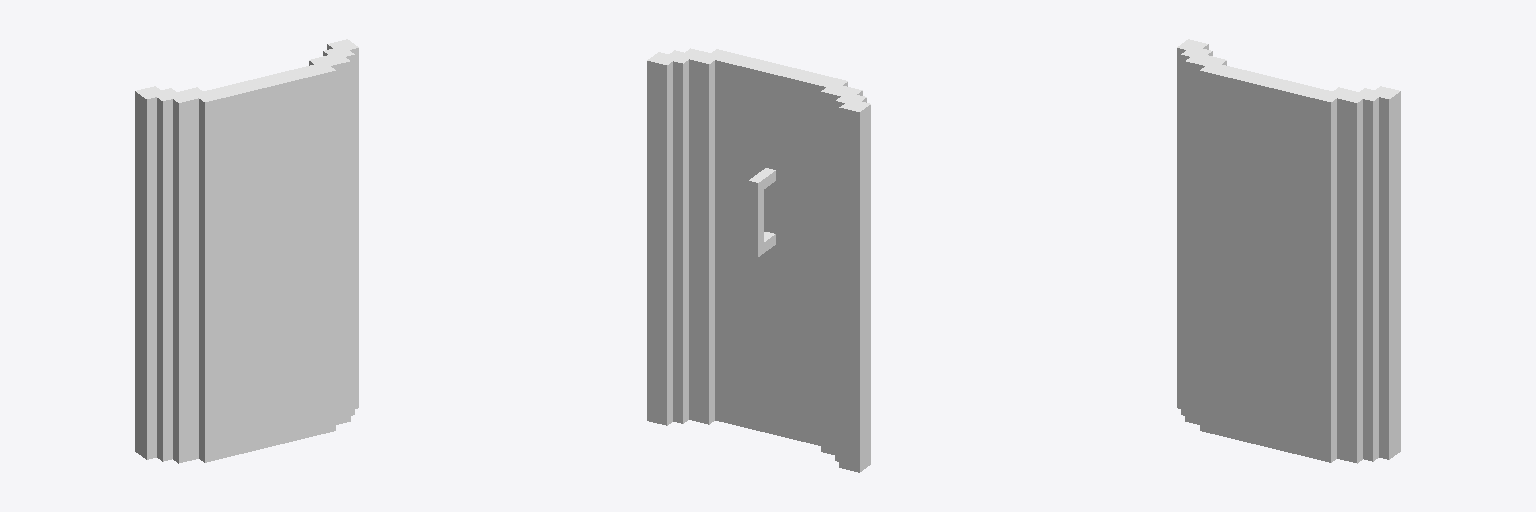
File: weaponsshields-22.obj
The picture shows the model from 3 angles: view 1: azimuth 30°, elevation 25°; view 2: azimuth 150°, elevation 25°; view 3: azimuth 330°, elevation 25°; orthographic projection.
Parts seen in each view (by area): view 1: weaponsshields-22; view 2: weaponsshields-22; view 3: weaponsshields-22.
Boxes of the visible parts, box(x1,y1,x2,y2) form: weaponsshields-22: box(135, 39, 358, 463); weaponsshields-22: box(647, 48, 870, 472); weaponsshields-22: box(1177, 39, 1400, 463).
Size of the model in its own units: 21 by 34 by 5.